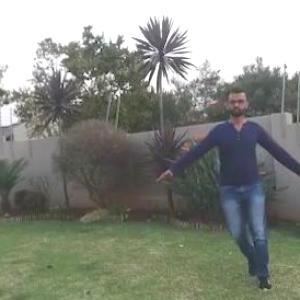land: (160, 95, 296, 262)
